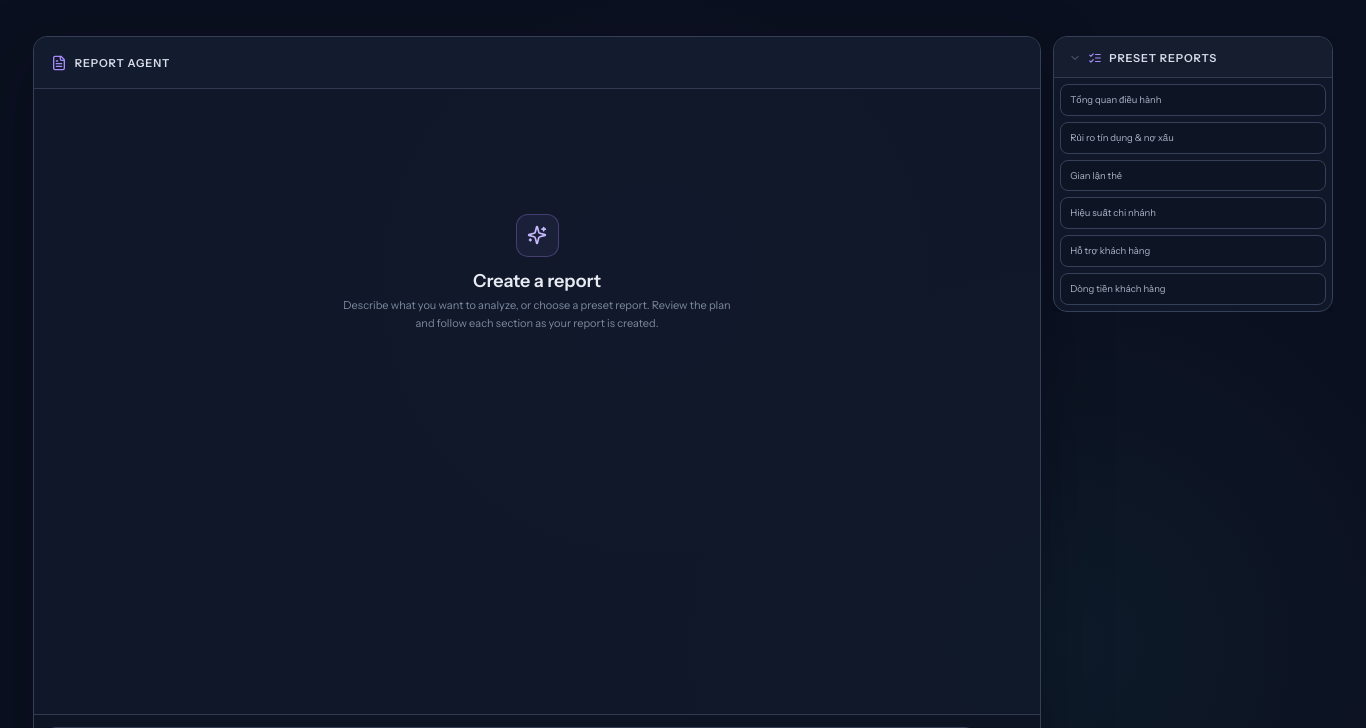
Test: ReportPanel › shows the failure reason directly and never opens an event stream when the run fails immediately
Click the button "Tổng quan điều hành": (1116, 100) x1=1060 y1=84 x2=1326 y2=116
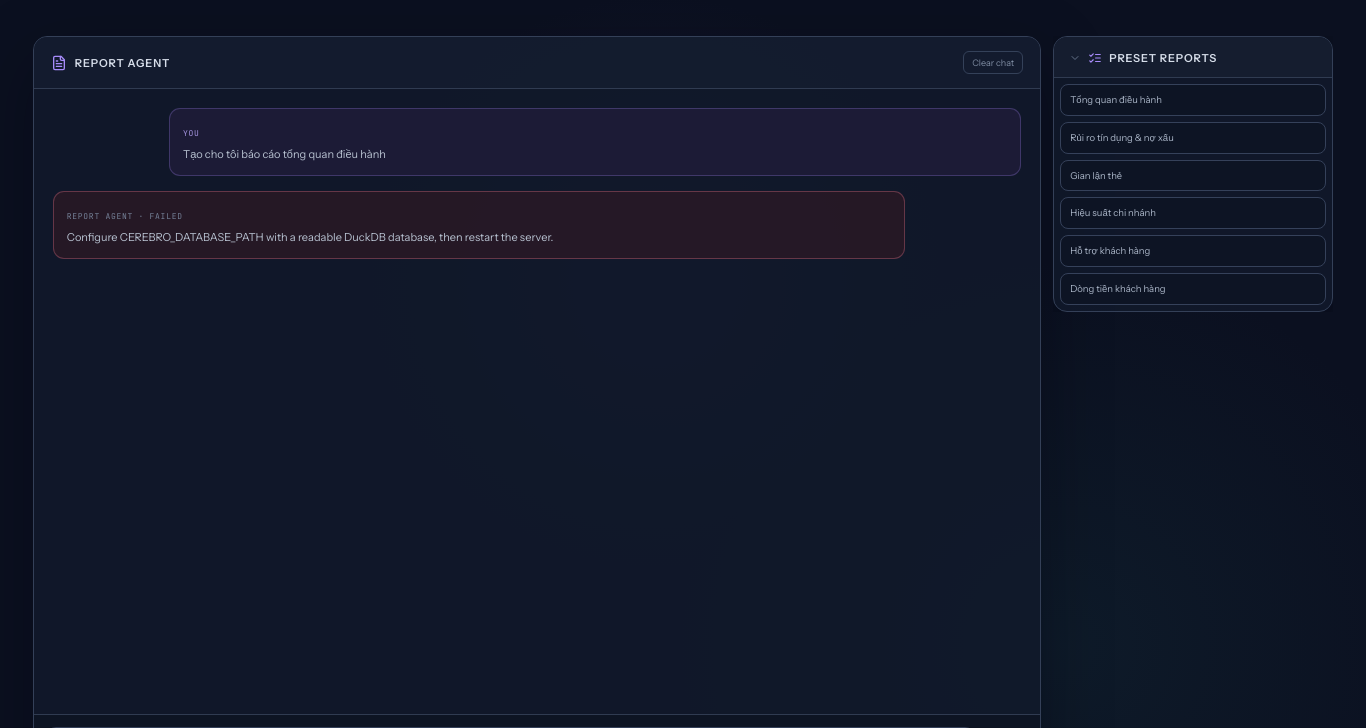
Check: the text "Configure CEREBRO_DATABASE_PATH" is shown, box x1=67 y1=230 x2=553 y2=244
